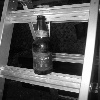beer: (32, 14, 52, 74)
